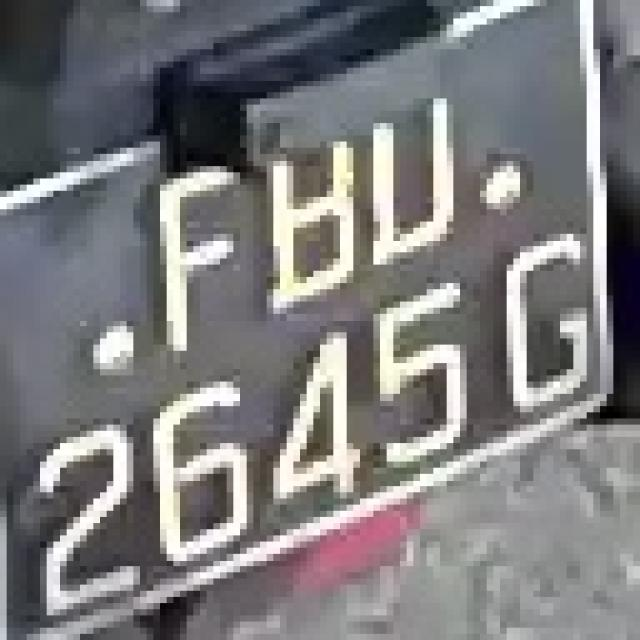2: (13, 418, 154, 616)
4: (260, 314, 373, 535)
5: (353, 277, 487, 474)
6: (140, 370, 280, 578)
B: (247, 123, 373, 320)
D: (353, 98, 467, 277)
F: (127, 141, 260, 357)
G: (486, 210, 606, 418)
